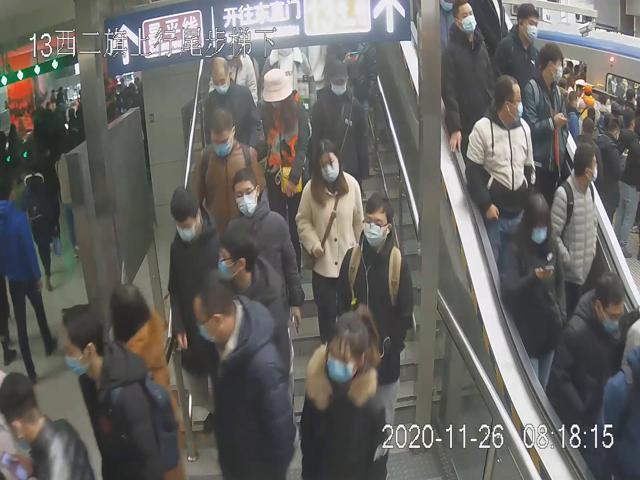person: (335, 189, 415, 448), (298, 301, 387, 480), (495, 187, 570, 392), (294, 136, 366, 344), (222, 168, 304, 345), (214, 222, 289, 398), (464, 72, 536, 255), (167, 182, 222, 412), (254, 67, 312, 253), (188, 104, 265, 240), (308, 58, 370, 198), (440, 1, 493, 154), (200, 54, 259, 155)
